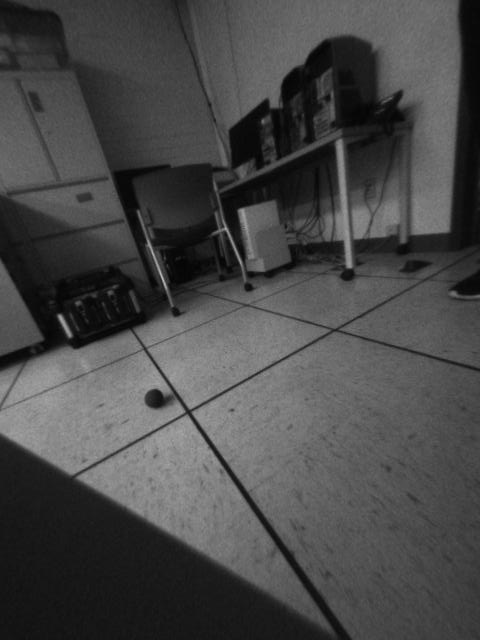dogtoy: (138, 383, 171, 414)
